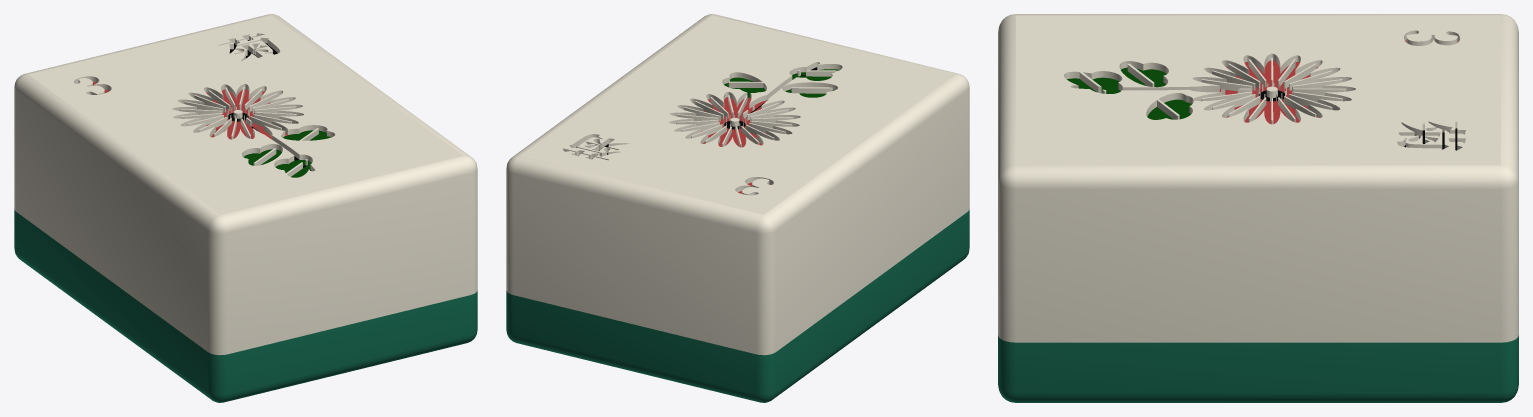
The model's file is Flower3_Chrysanthemum.glb.
3 views of the same model, side by side, from view 1: azimuth 30°, elevation 25°; view 2: azimuth 150°, elevation 25°; view 3: azimuth 270°, elevation 25° (orthographic). The views are drawn at different scales.
Parts seen in each view (by area): view 1: Flower3_Chrysanthemum_body, Flower3_Chrysanthemum_inset; view 2: Flower3_Chrysanthemum_body, Flower3_Chrysanthemum_inset; view 3: Flower3_Chrysanthemum_body, Flower3_Chrysanthemum_inset.
Part boxes in pixels (left/top/right/bottom): Flower3_Chrysanthemum_body: left=14, top=14, right=477, bottom=402; Flower3_Chrysanthemum_inset: left=93, top=40, right=331, bottom=177; Flower3_Chrysanthemum_body: left=506, top=14, right=969, bottom=402; Flower3_Chrysanthemum_inset: left=576, top=67, right=839, bottom=193; Flower3_Chrysanthemum_body: left=998, top=14, right=1518, bottom=402; Flower3_Chrysanthemum_inset: left=1067, top=40, right=1458, bottom=150.
Size of the model in its own units: 0.024 by 0.016 by 0.032.
